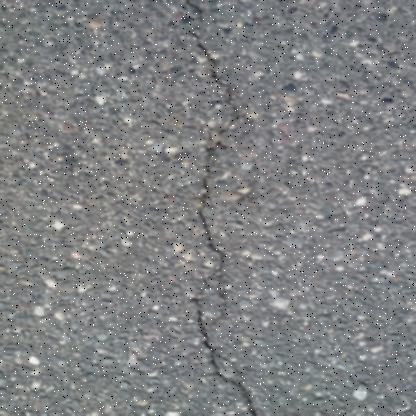Cracks: (175, 0, 272, 415)
